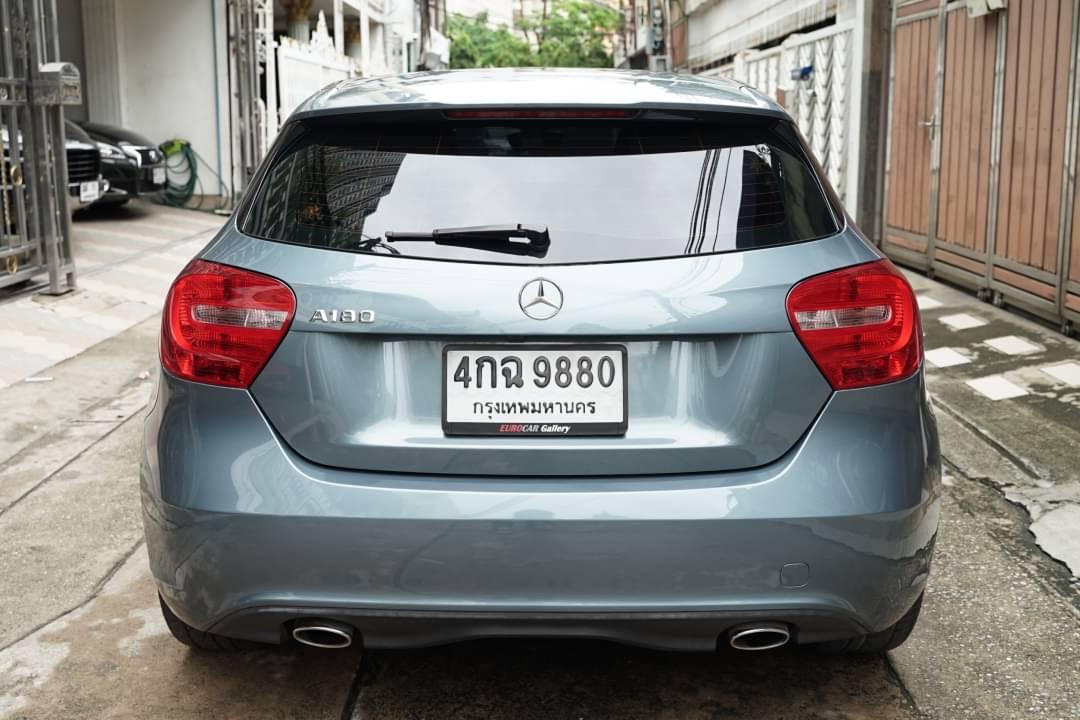license-plate: (440, 338, 633, 441)
